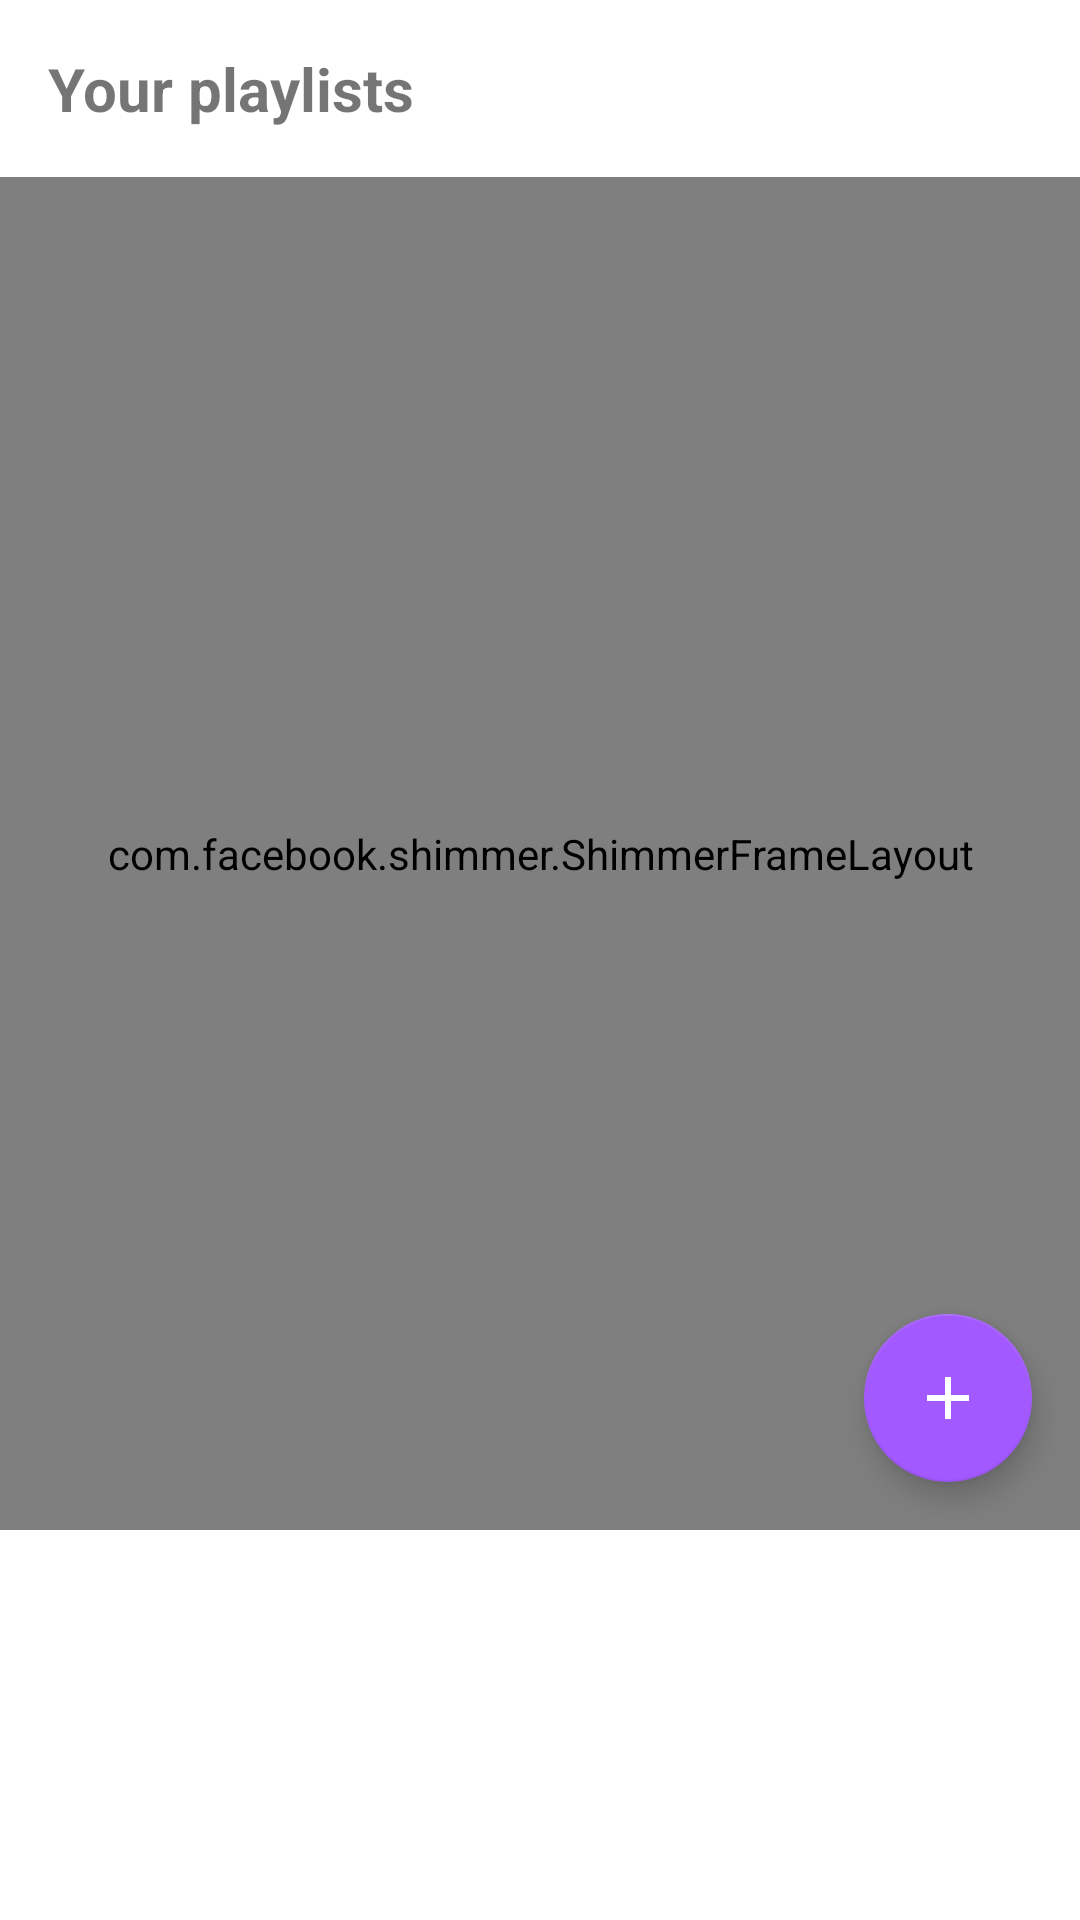

Where icons sit on this 1080x1920 app screen, as (x1, y1, x2, y2):
Add playlist: (864, 1314, 1032, 1482)
